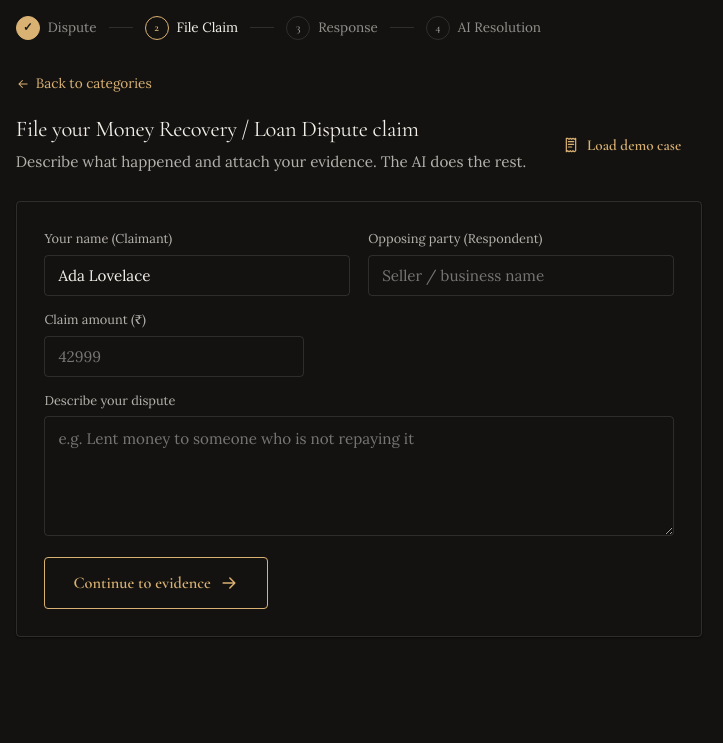
Test: NewCase › loads a sample claim and populates the form + a read-only evidence preview
This screenshot has width=723, height=743.
Click the button "Load demo case": point(622, 145) left=542, top=123, right=702, bottom=167
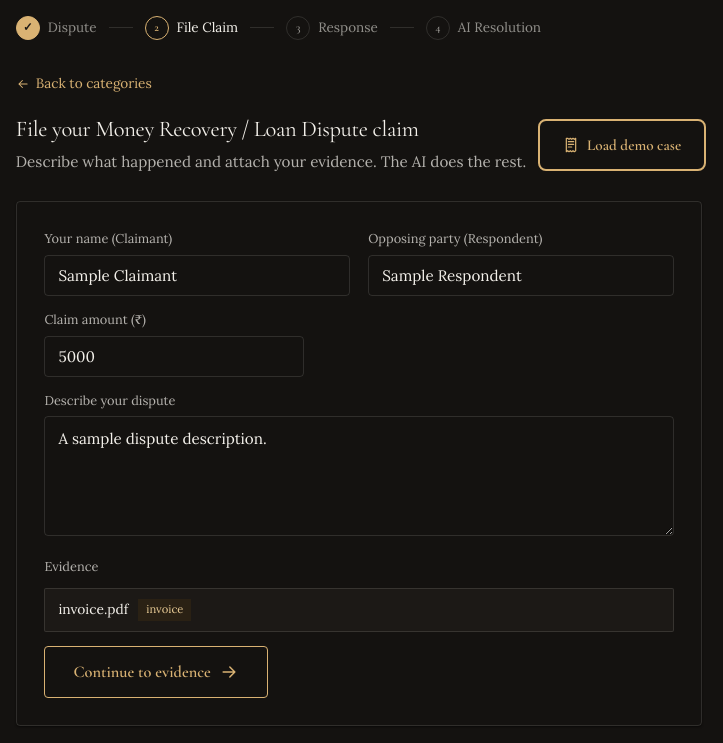
Result: the field showing "Sample Claimant" is shown at left=44, top=255, right=350, bottom=296
Result: the field showing "Sample Respondent" is shown at left=368, top=255, right=674, bottom=296
Result: the text "invoice.pdf" is shown at left=58, top=600, right=128, bottom=618
